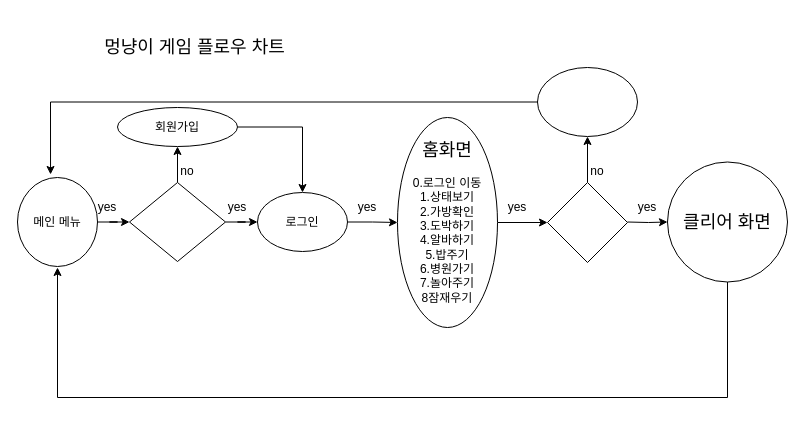
Image size: 805x423. Some labels were removed from this diagram. Each missing label, with the centre of its shape:
"ID/PW가 있는가?" belongs at (177,222).
"성장 성공/실패" belongs at (587,222).
"실패 화면" belongs at (587,101).
